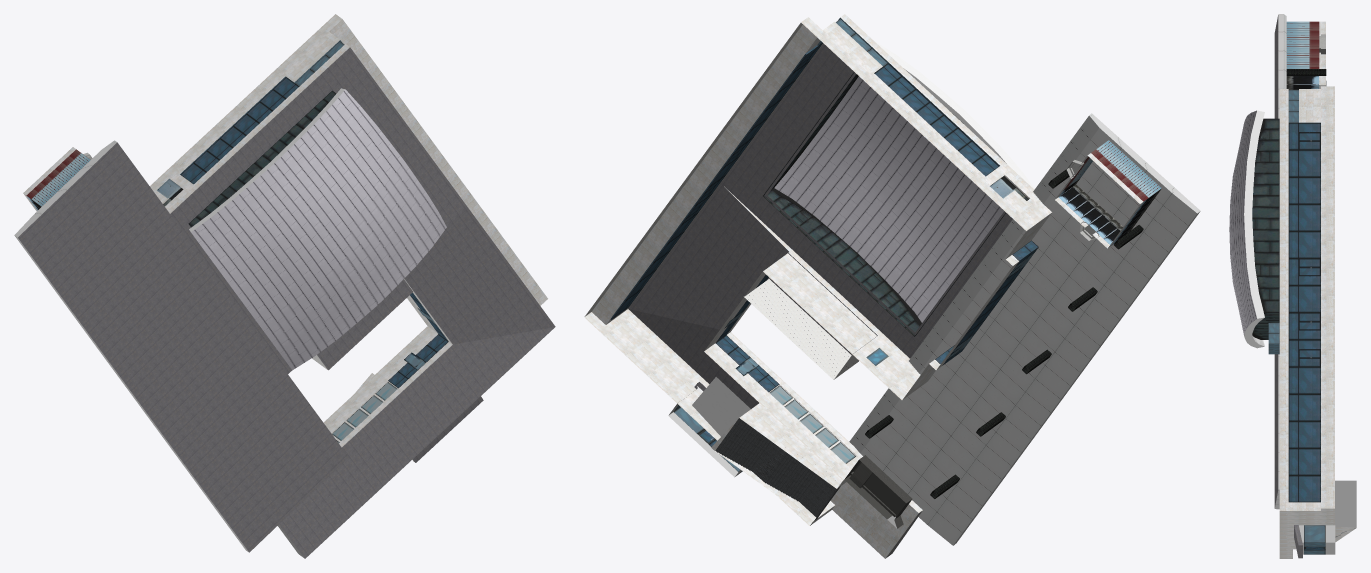
File: Toompuiestee_37_1.obj
3 renders of one model, left to right at view 1: azimuth 30°, elevation 25°; view 2: azimuth 150°, elevation 25°; view 3: azimuth 270°, elevation 25°, orthographic. The views are drawn at different scales.
Visible parts, largest first — view 1: Toompuiestee_37_1; view 2: Toompuiestee_37_1; view 3: Toompuiestee_37_1, xxx.
Part boxes in pixels (x1=…): Toompuiestee_37_1: x1=14, y1=14, x2=555, y2=558; Toompuiestee_37_1: x1=584, y1=14, x2=1200, y2=558; Toompuiestee_37_1: x1=1229, y1=14, x2=1356, y2=558; xxx: x1=1335, y1=480, x2=1356, y2=527.
Bounding box in the file's own units: 68.32 × 60.09 × 13.83.
